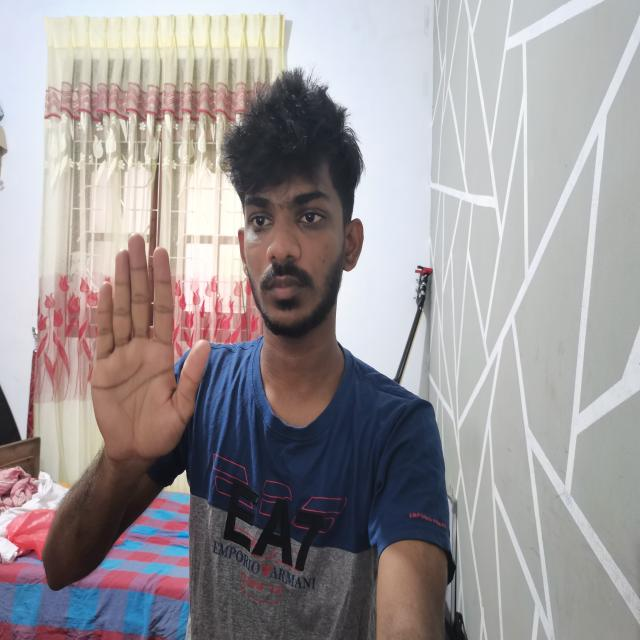Hello: (87, 235, 214, 462)
